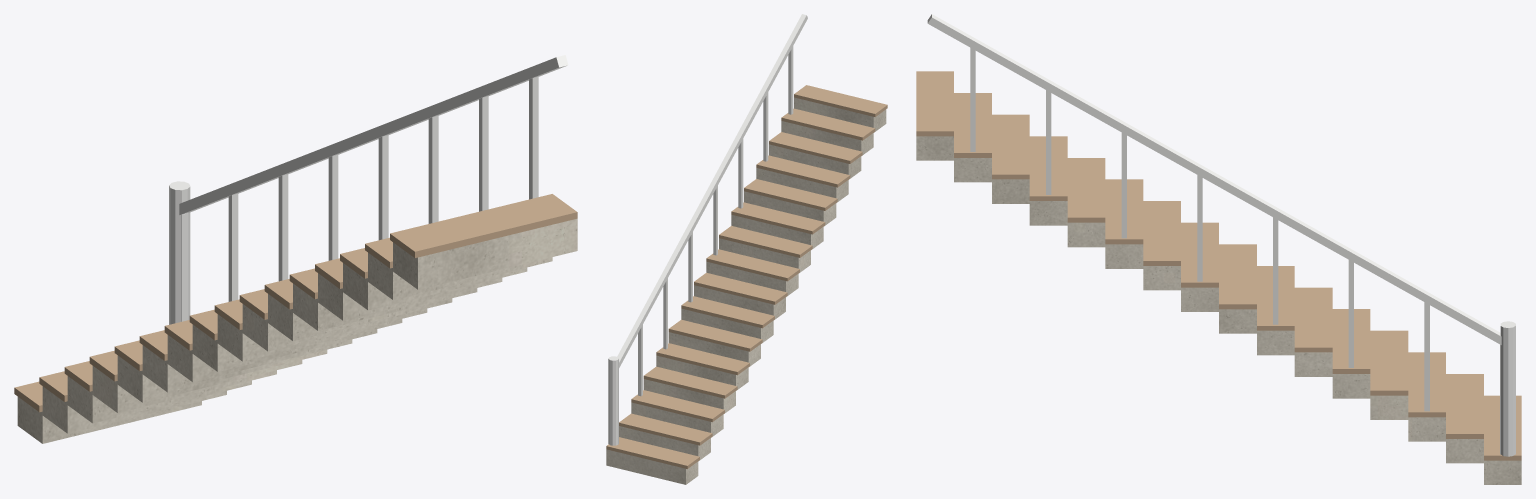
Rendered from loft_stair.glb.
3 renders of one model, left to right at view 1: azimuth 30°, elevation 25°; view 2: azimuth 150°, elevation 25°; view 3: azimuth 270°, elevation 25°, orthographic. The views are drawn at different scales.
Visible parts, largest first — view 1: loft_stair_plaster, loft_stair_trim, loft_stair_wood; view 2: loft_stair_wood, loft_stair_plaster, loft_stair_trim; view 3: loft_stair_wood, loft_stair_plaster, loft_stair_trim.
Boxes of the visible parts, x1=… form: loft_stair_plaster: x1=17, y1=218, x2=577, y2=443; loft_stair_trim: x1=169, y1=55, x2=568, y2=324; loft_stair_wood: x1=14, y1=194, x2=577, y2=412; loft_stair_wood: x1=606, y1=85, x2=887, y2=468; loft_stair_plaster: x1=606, y1=97, x2=886, y2=484; loft_stair_trim: x1=608, y1=14, x2=807, y2=445; loft_stair_wood: x1=916, y1=71, x2=1521, y2=460; loft_stair_plaster: x1=916, y1=136, x2=1521, y2=484; loft_stair_trim: x1=927, y1=14, x2=1515, y2=456.
Size of the model in its own units: 1.07 by 3.81 by 4.48.
Materials: 3 (1 with a texture image).
